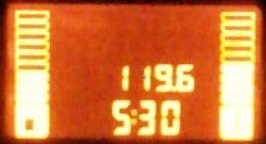-: (172, 83, 175, 92)
0: (159, 99, 181, 136)
1: (120, 63, 129, 91), (141, 64, 150, 91)
3: (136, 98, 156, 135)
5: (110, 98, 131, 136)
6: (174, 63, 193, 92)
9: (153, 63, 172, 92)
X: (129, 108, 137, 124)
